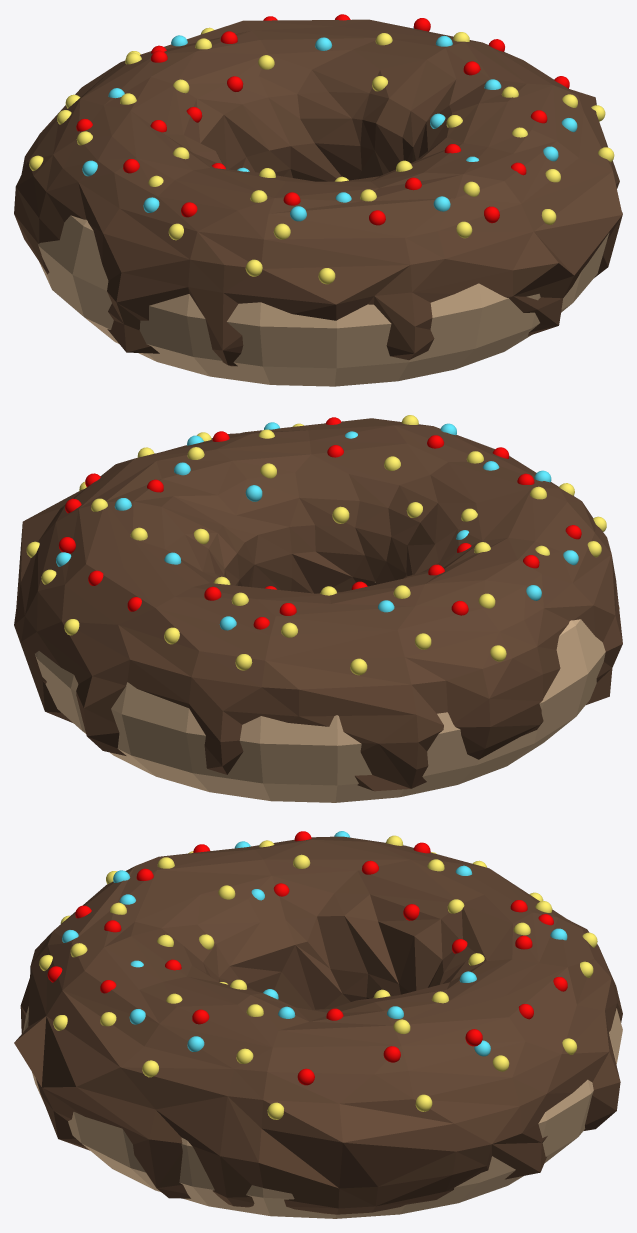
3 renders of one model, top to bottom at view 1: azimuth 30°, elevation 25°; view 2: azimuth 150°, elevation 25°; view 3: azimuth 270°, elevation 25°, orthographic.
Parts seen in each view (by area): view 1: Torus002, Torus001; view 2: Torus002, Torus001; view 3: Torus002, Torus001.
Part boxes in pixels (x1,y1,x2,y2): Torus002: [14, 19, 622, 366]; Torus001: [38, 215, 609, 386]; Torus002: [14, 418, 622, 791]; Torus001: [35, 582, 619, 802]; Torus002: [14, 836, 622, 1214]; Torus001: [23, 1006, 622, 1218].
Size of the model in its own units: 1334 by 467 by 1279.
